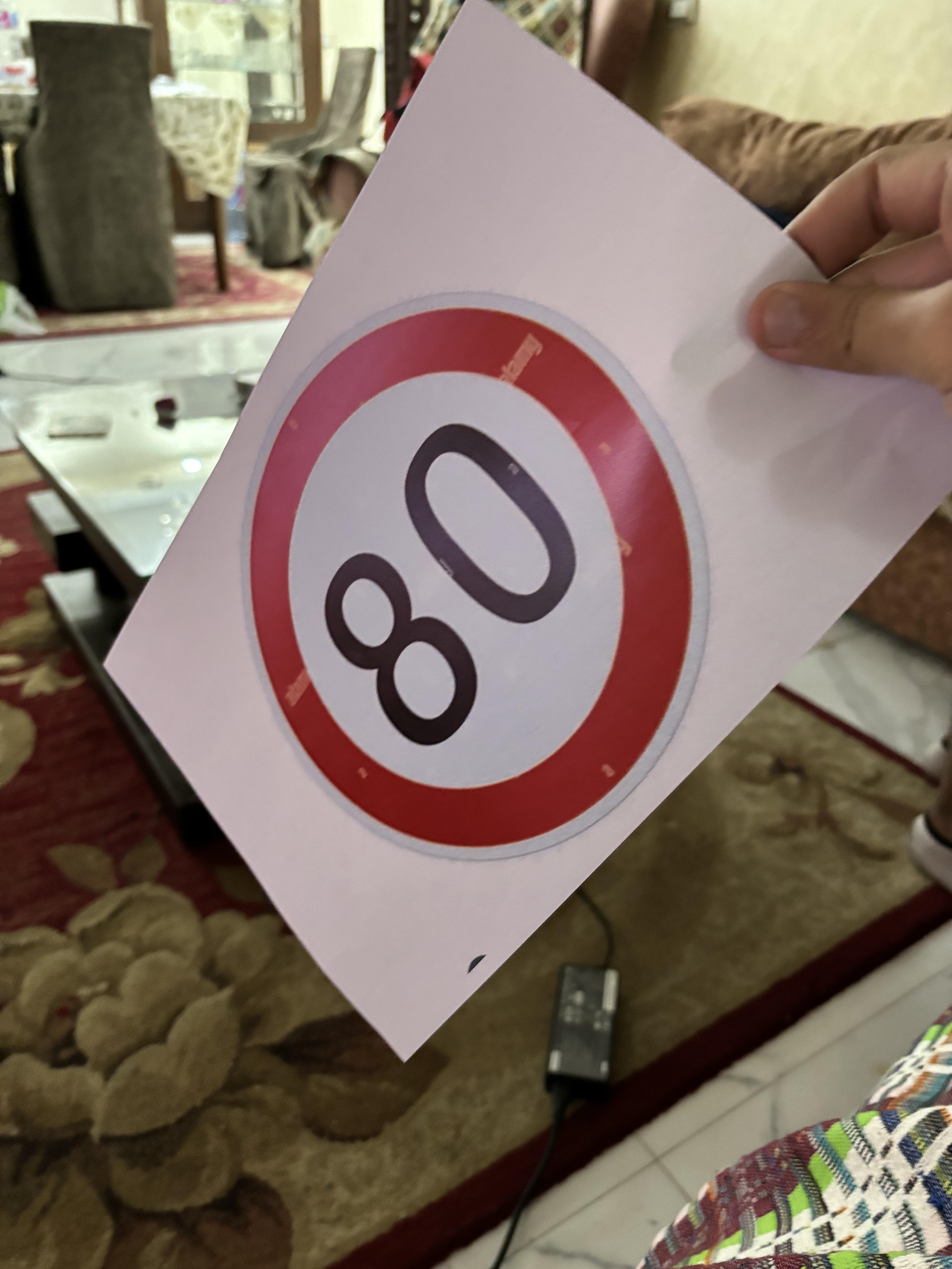80-Speed: (225, 298, 705, 853)
